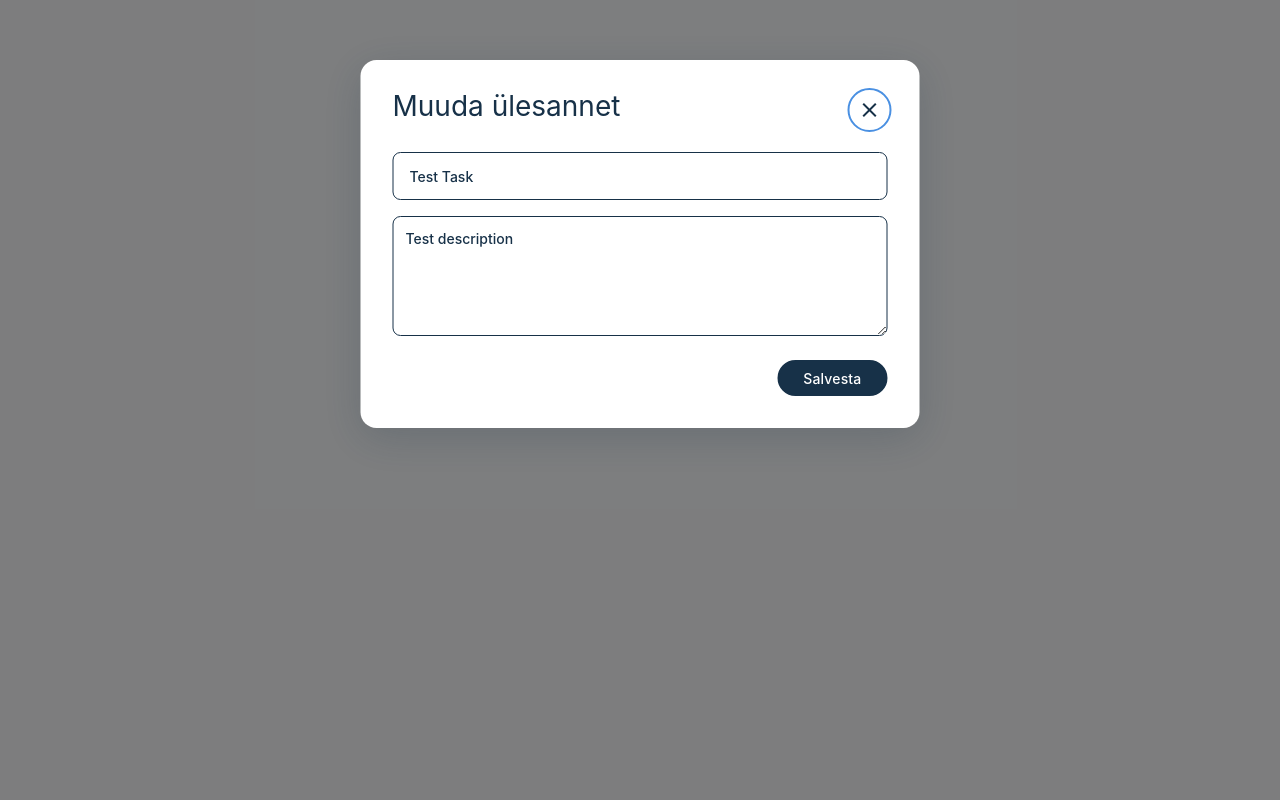
it: TaskEditModal › group 2 › group 2 › group 2 › group 2 › group 2 › error handling › shows generic error for non-Error rejection
Click the button "Salvesta" at (832, 378), box [777,360,888,396]
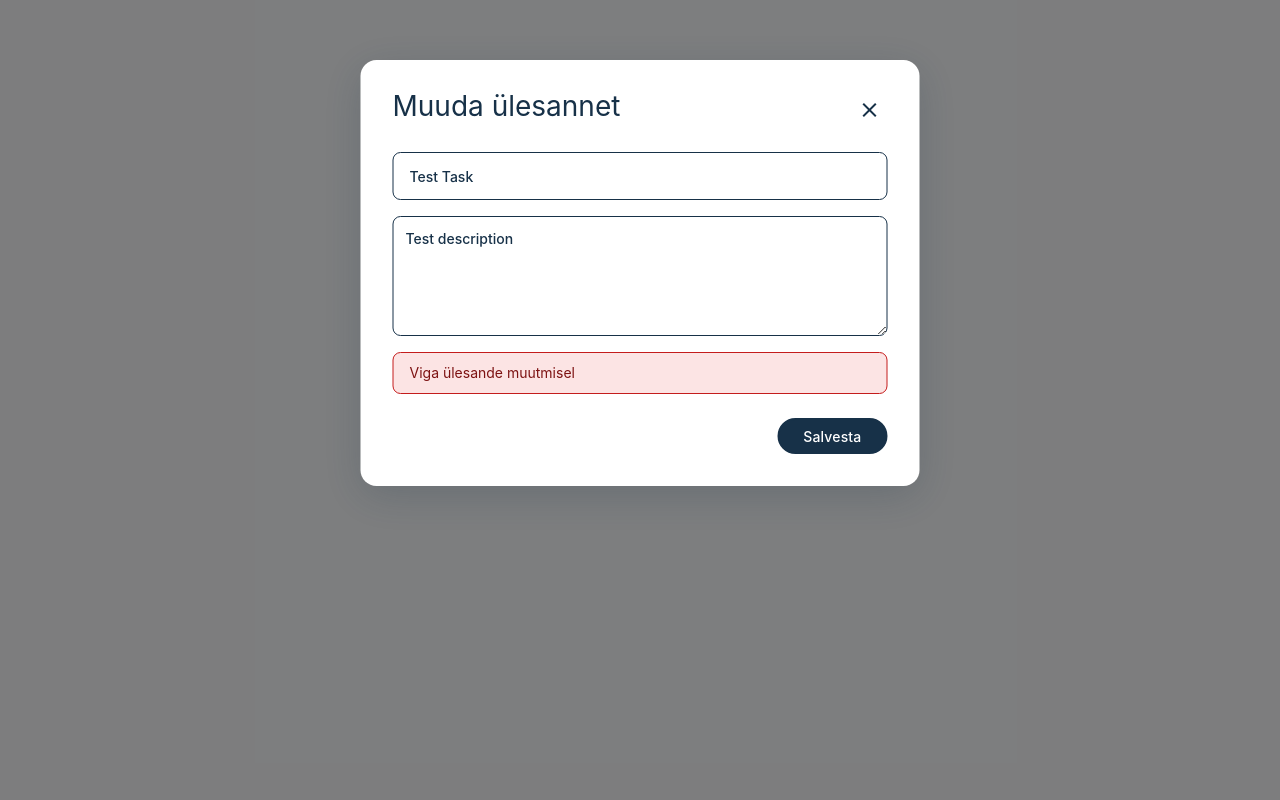
Now the text "Viga ülesande muutmisel" is shown, box [410,364,575,381]
